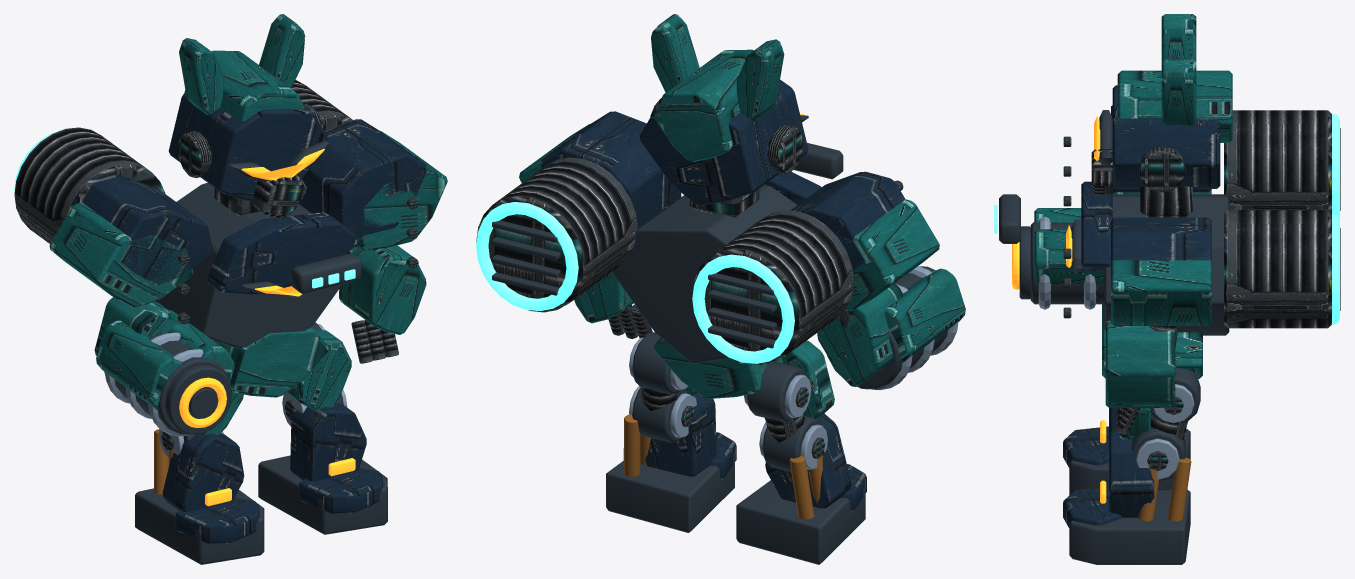
Rendered from sector_04_0.glb.
3 views of the same model, side by side, from view 1: azimuth 30°, elevation 25°; view 2: azimuth 150°, elevation 25°; view 3: azimuth 270°, elevation 25° (orthographic). The views are drawn at different scales.
Visible parts, largest first — view 1: Navy crown, Cuirass yoke, Angular scout torso, Neck actuator, Greave armor, Greave armor.001, Servo housing.004, Servo housing.001, Tapered thigh shield.001, Recessed V optic, Bearing ring, Calf piston; view 2: Navy crown, Neck actuator, Cuirass yoke, Angular scout torso, Servo housing.001, Servo housing.004, Pressure seal, Greave armor.001, Greave armor, Tapered thigh shield, Bearing ring.002, Calf piston (+5 smaller); view 3: Neck actuator, Navy crown, Cuirass yoke, Angular scout torso, Servo housing.004, Greave armor.001, Pressure seal, Greave armor, Bearing ring.008, Calf piston.002, Servo housing.001, Hub.008 (+3 smaller).
Boxes of the visible parts, box(x1,y1,x2,y2) form: Navy crown: box(49, 14, 447, 410); Cuirass yoke: box(82, 92, 427, 294); Angular scout torso: box(104, 140, 361, 434); Neck actuator: box(14, 80, 418, 363); Greave armor: box(162, 433, 259, 543); Greave armor.001: box(290, 403, 383, 513); Servo housing.004: box(258, 322, 387, 534); Servo housing.001: box(135, 434, 264, 564); Tapered thigh shield.001: box(287, 330, 351, 410); Recessed V optic: box(179, 148, 324, 427); Bearing ring: box(105, 332, 203, 436); Calf piston: box(154, 429, 173, 494); Navy crown: box(519, 14, 965, 398); Neck actuator: box(476, 98, 903, 365); Cuirass yoke: box(540, 79, 905, 270); Angular scout torso: box(492, 115, 948, 389); Servo housing.001: box(736, 362, 865, 564); Servo housing.004: box(606, 332, 734, 532); Pressure seal: box(476, 202, 794, 363); Greave armor.001: box(645, 393, 736, 479); Greave armor: box(765, 413, 866, 511); Tapered thigh shield: box(781, 340, 834, 418); Bearing ring.002: box(744, 374, 827, 469); Calf piston: box(789, 455, 822, 519); Neck actuator: box(1063, 110, 1331, 434); Navy crown: box(1034, 14, 1232, 407); Cuirass yoke: box(1081, 85, 1220, 271); Angular scout torso: box(999, 110, 1340, 335); Servo housing.004: box(1069, 367, 1200, 564); Greave armor.001: box(1063, 430, 1154, 527); Pressure seal: box(994, 114, 1339, 324); Greave armor: box(1063, 408, 1151, 467); Bearing ring.008: box(1136, 384, 1194, 479); Calf piston.002: box(1138, 457, 1191, 521); Servo housing.001: box(1069, 429, 1190, 494); Hub.008: box(1147, 396, 1187, 470).
Bounding box in the file's own units: 1.17 × 1.52 × 0.9945.
8 materials, 3 textured.
